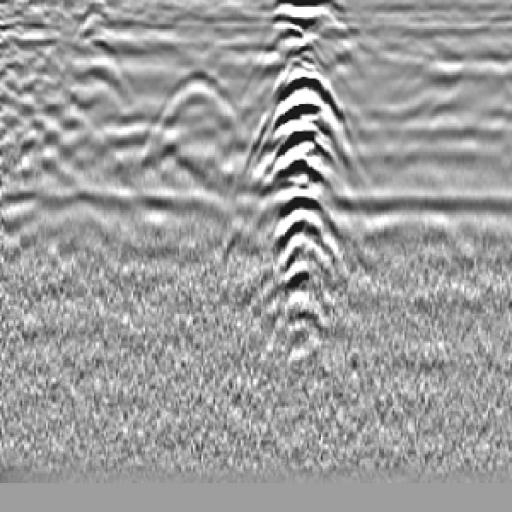metalic: (232, 33, 382, 333)
nonmetalic: (120, 61, 263, 209)
